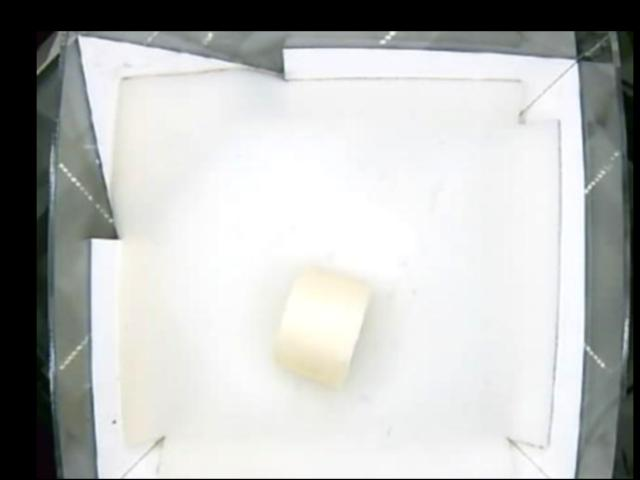Mooli: (276, 264, 374, 383)
